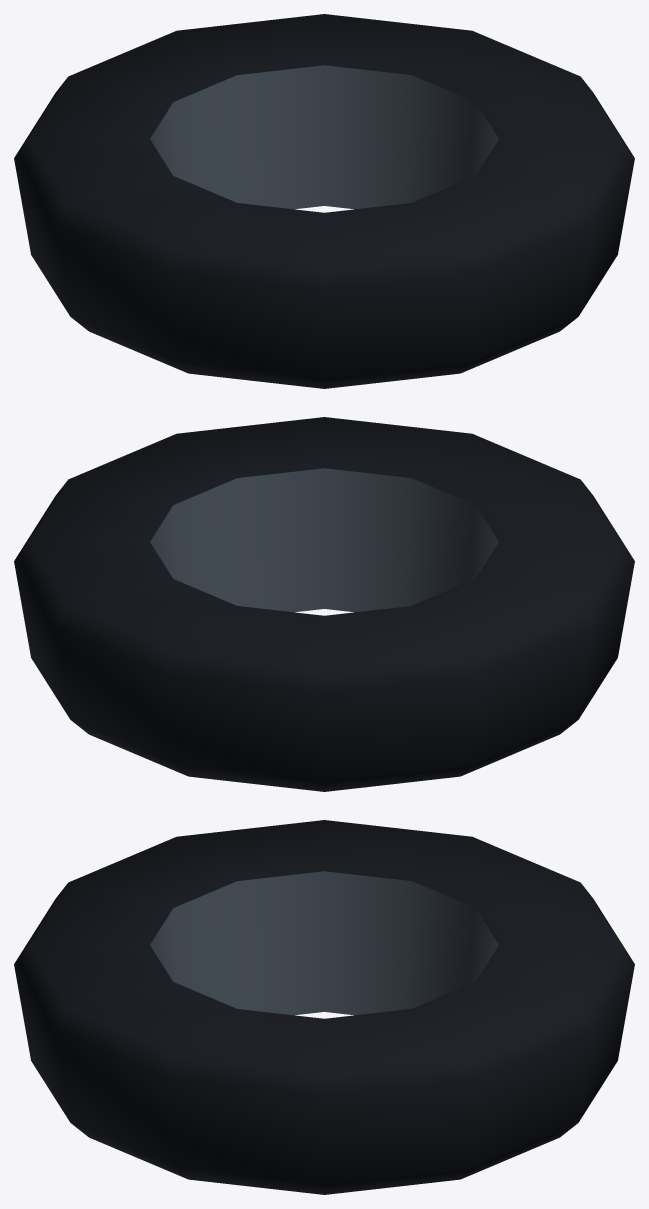
The model's file is Olive_black_ring_Hotdog.fbx.
3 views of the same model, one above another, from view 1: azimuth 30°, elevation 25°; view 2: azimuth 150°, elevation 25°; view 3: azimuth 270°, elevation 25° (orthographic).
Parts seen in each view (by area): view 1: Olive_black_ring_Hotdog; view 2: Olive_black_ring_Hotdog; view 3: Olive_black_ring_Hotdog.
Boxes of the visible parts, x1,y1,x2,y2 form: Olive_black_ring_Hotdog: [14, 14, 634, 388]; Olive_black_ring_Hotdog: [14, 417, 634, 791]; Olive_black_ring_Hotdog: [14, 820, 634, 1194].
Size of the model in its own units: 23.89 by 23.89 by 5.73.
